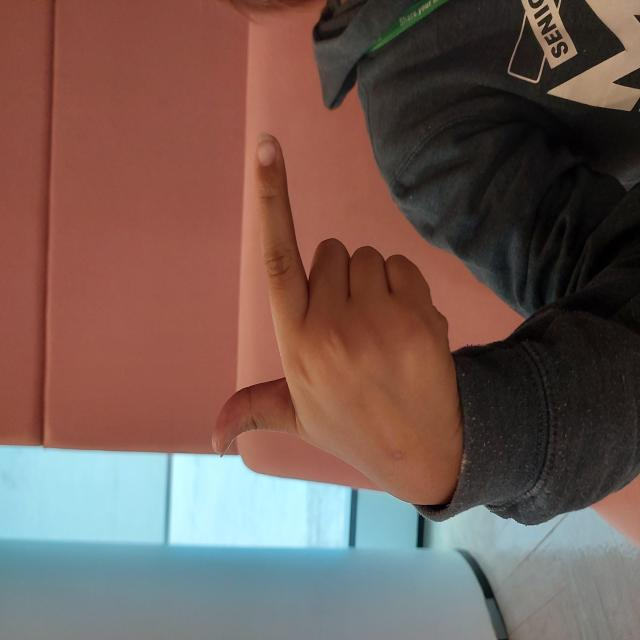G: (122, 207, 512, 469)
